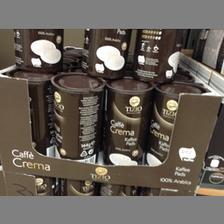Kaffee: (50, 70, 106, 164), (148, 79, 204, 167), (102, 75, 154, 165), (11, 28, 63, 70)
